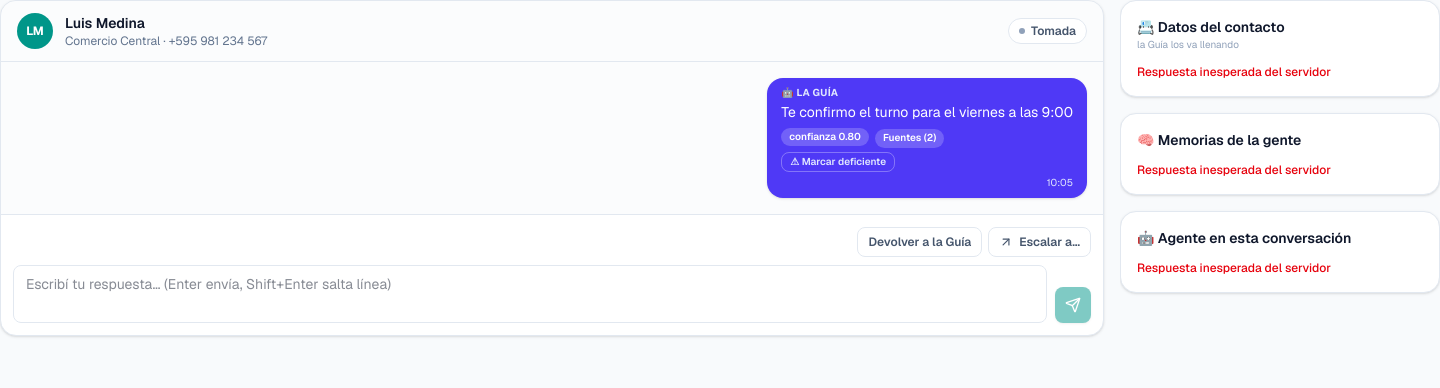
Test: HiloConversacion burbuja IA (E2·T6) › renderiza etiqueta 🤖 La Guía + chip de confianza + fuentes titulos
expect the element named "Mensajes" is shown: met, box [1,62,1103,214]
expect the text "🤖 La Guía" is shown: met, box [781,86,838,99]
El popover: cerrado muestra el resumen, al abrirlo lista los titulos.
Step 1. Click the heading "Fuentes (2)" → (910, 138), box [875,129,944,148]
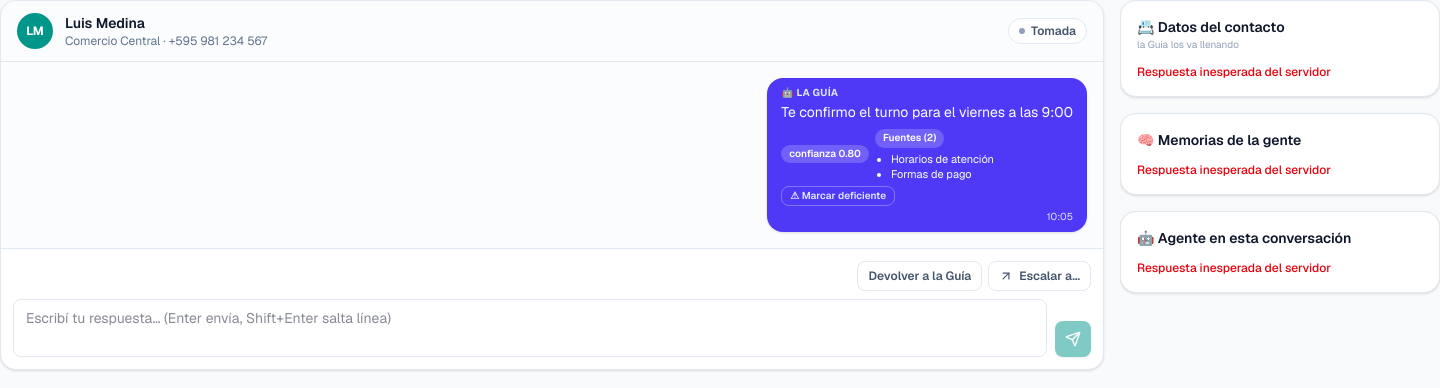
expect the list item "Horarios de atención" is shown: met, box [891,152,994,167]
expect the list item "Formas de pago" is shown: met, box [891,167,972,181]
